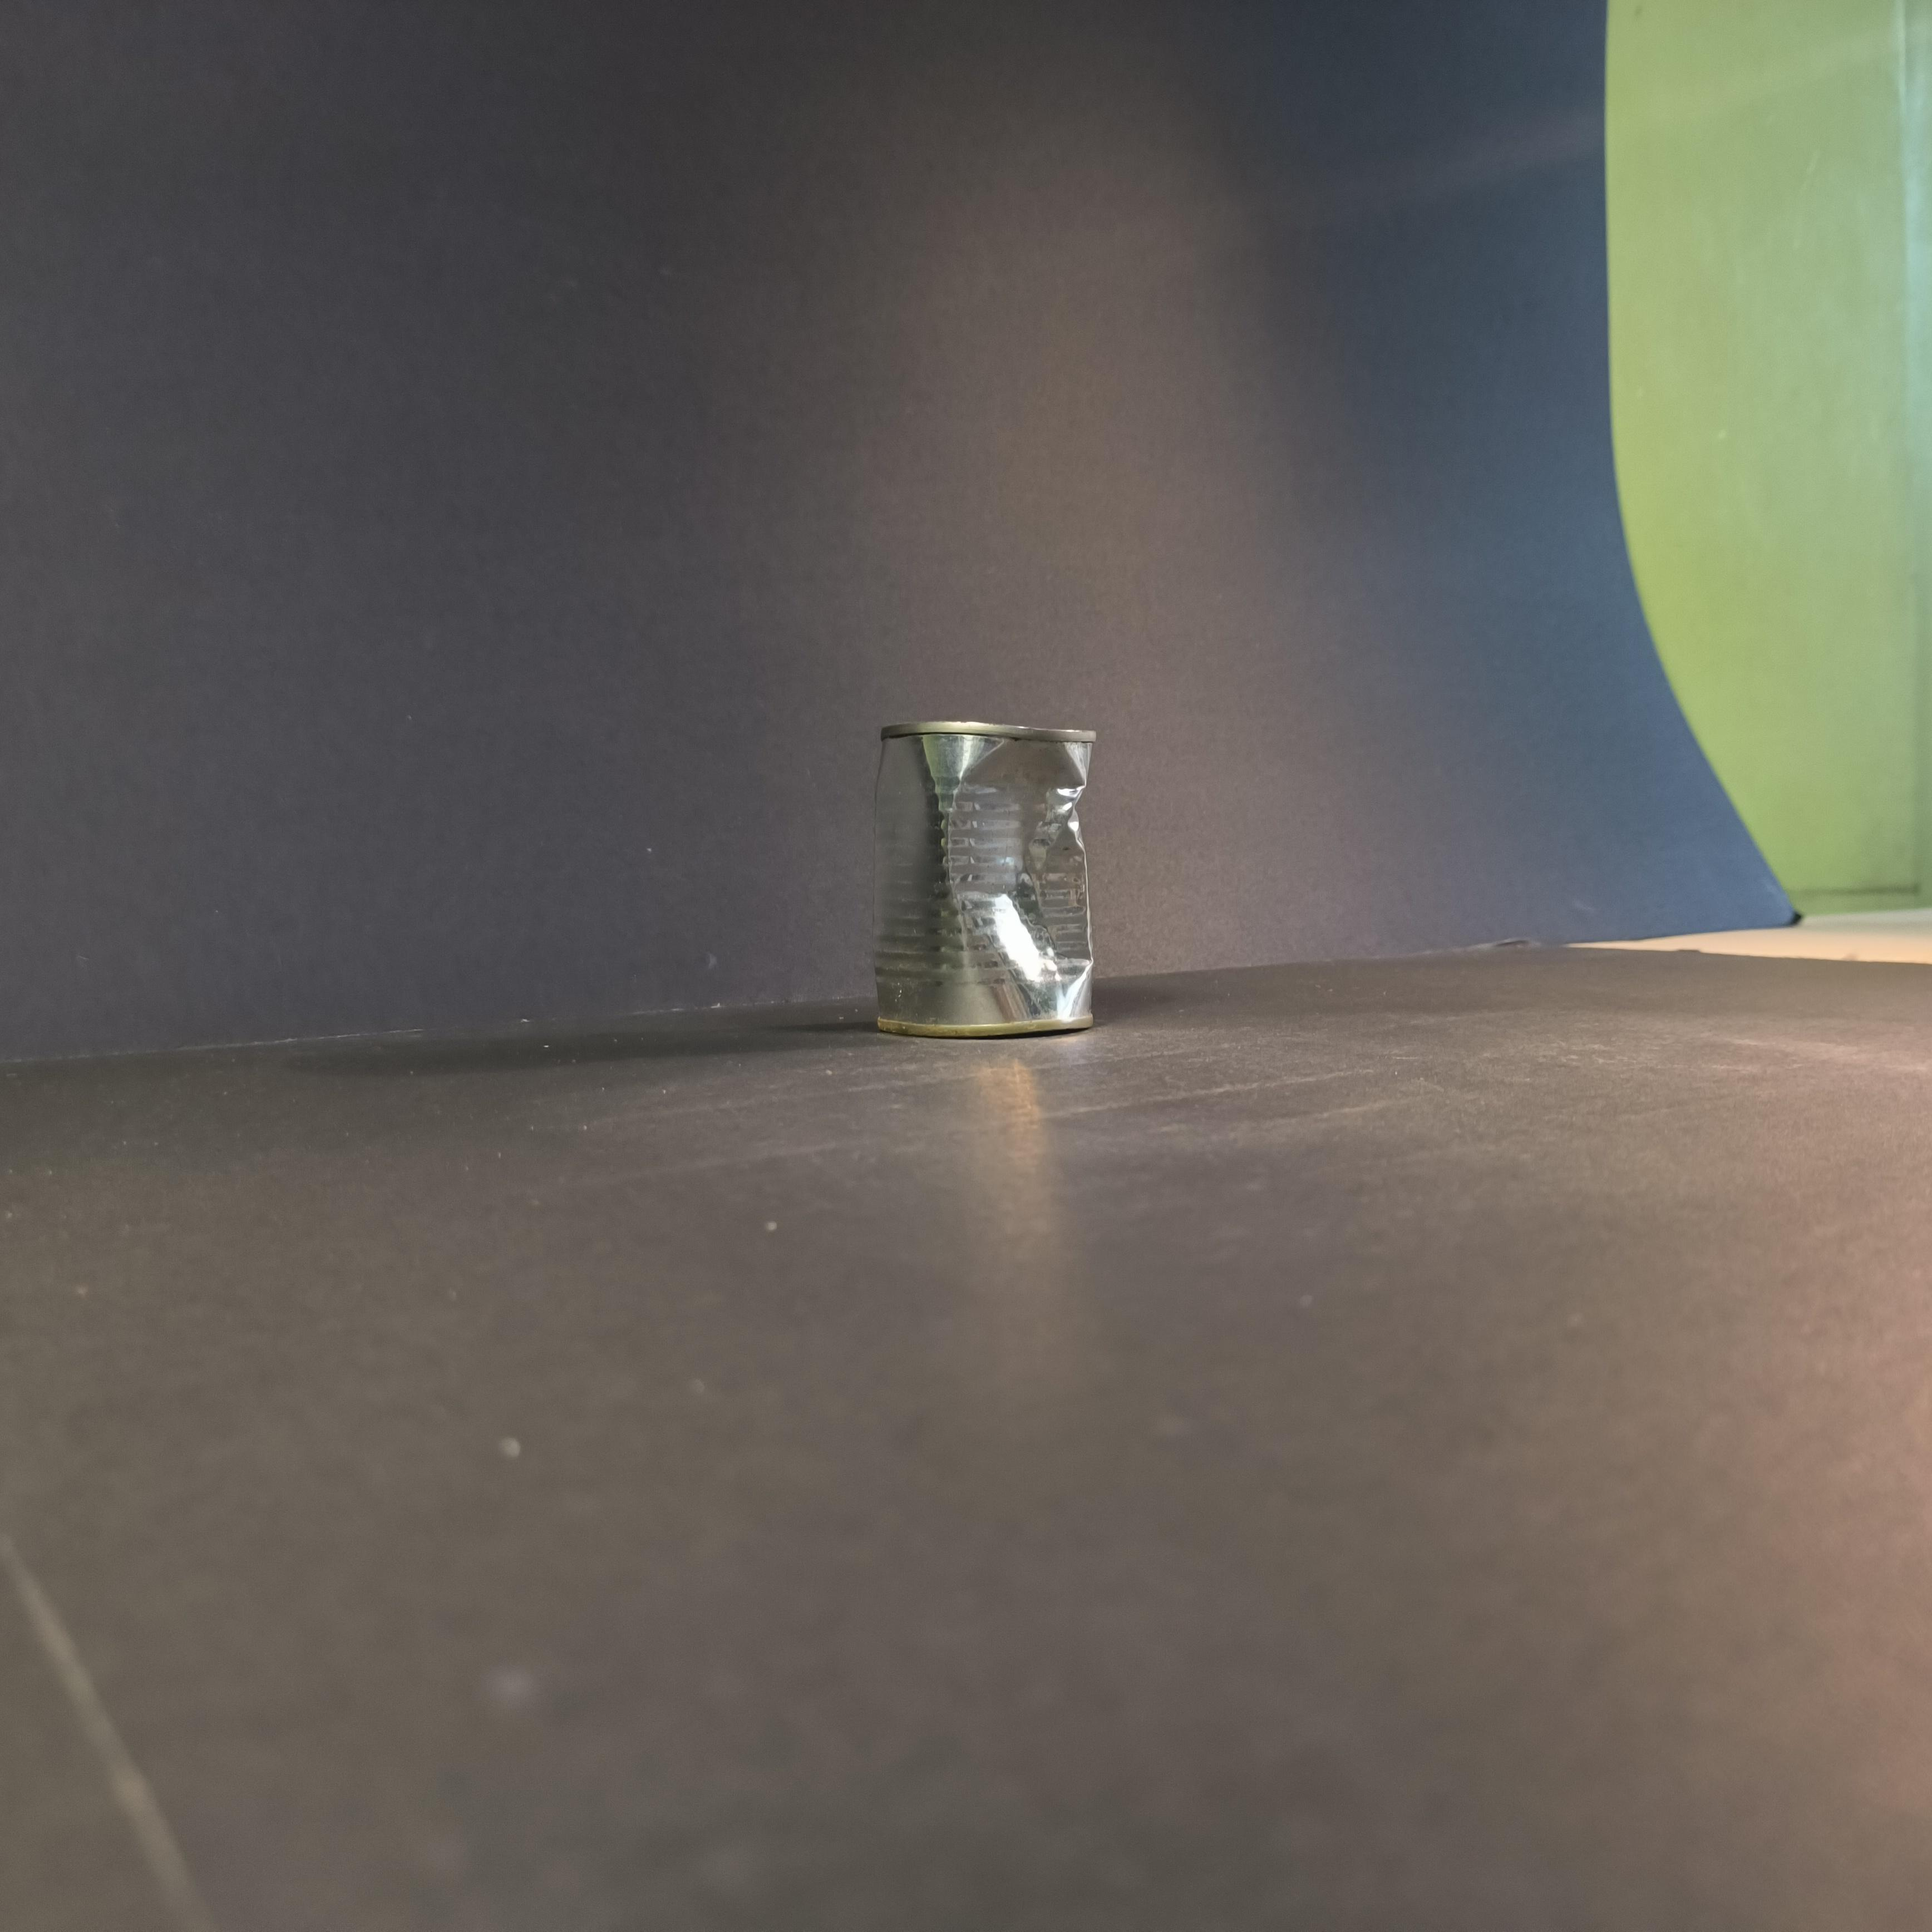Dented: (855, 701, 1109, 1060)
